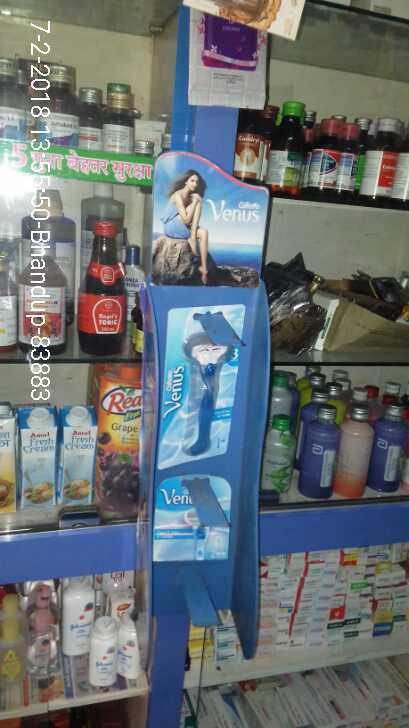venus: (160, 306, 236, 462), (152, 475, 230, 565)
